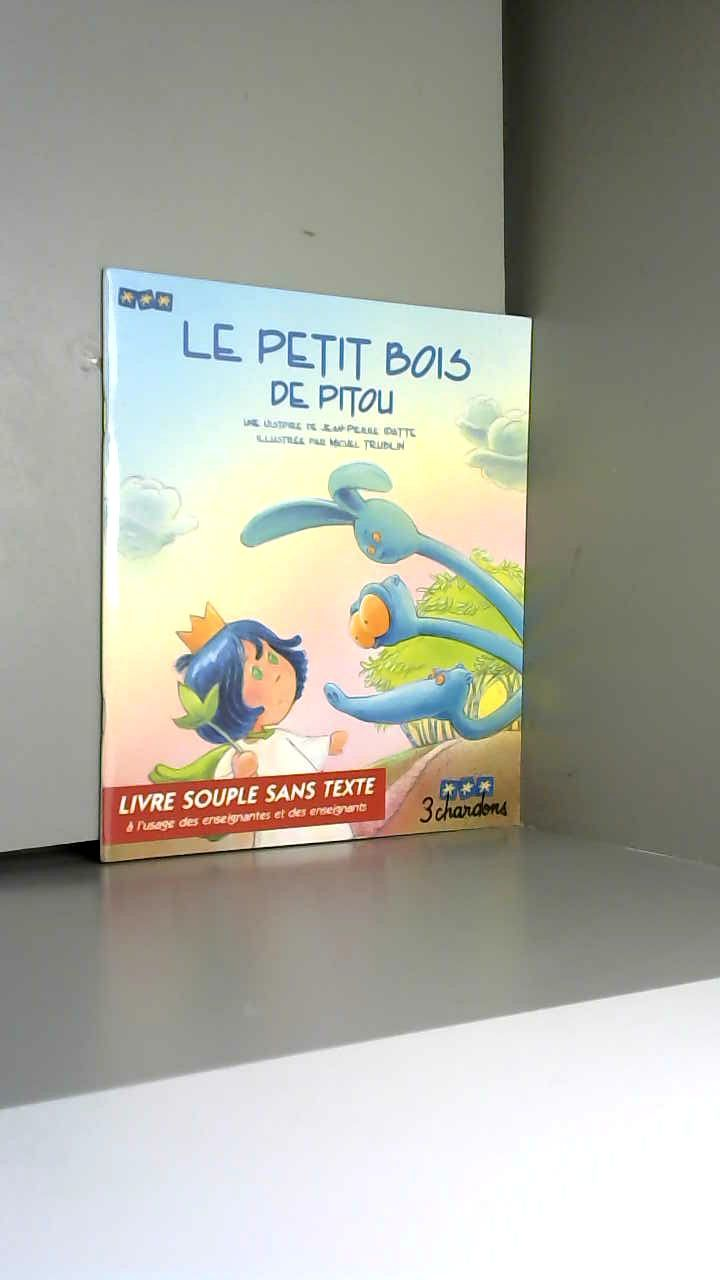book: (65, 226, 574, 906)
